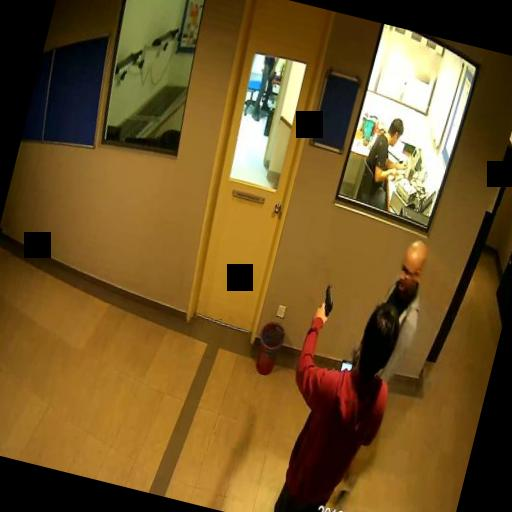Handgun: (314, 282, 338, 320)
